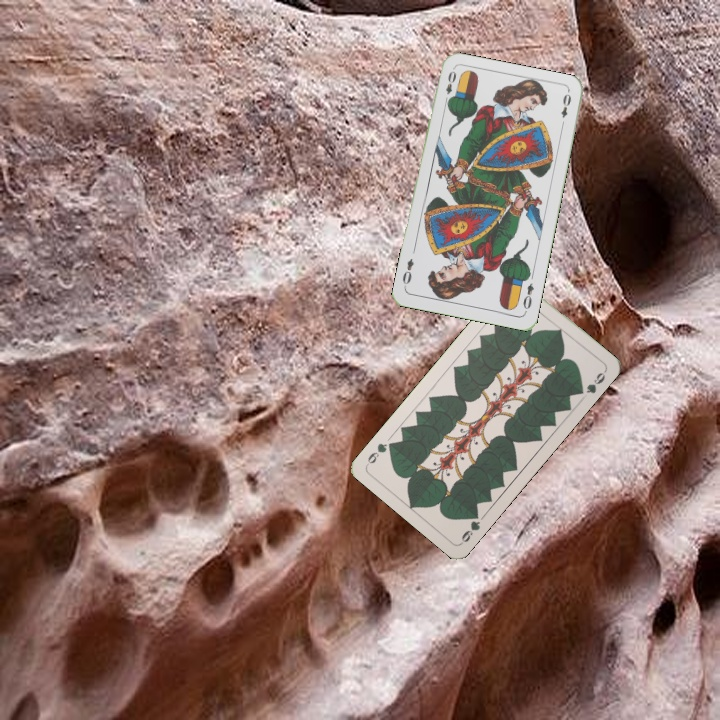EO: (441, 67, 459, 107), (519, 279, 536, 315)
G9: (457, 507, 483, 546)
